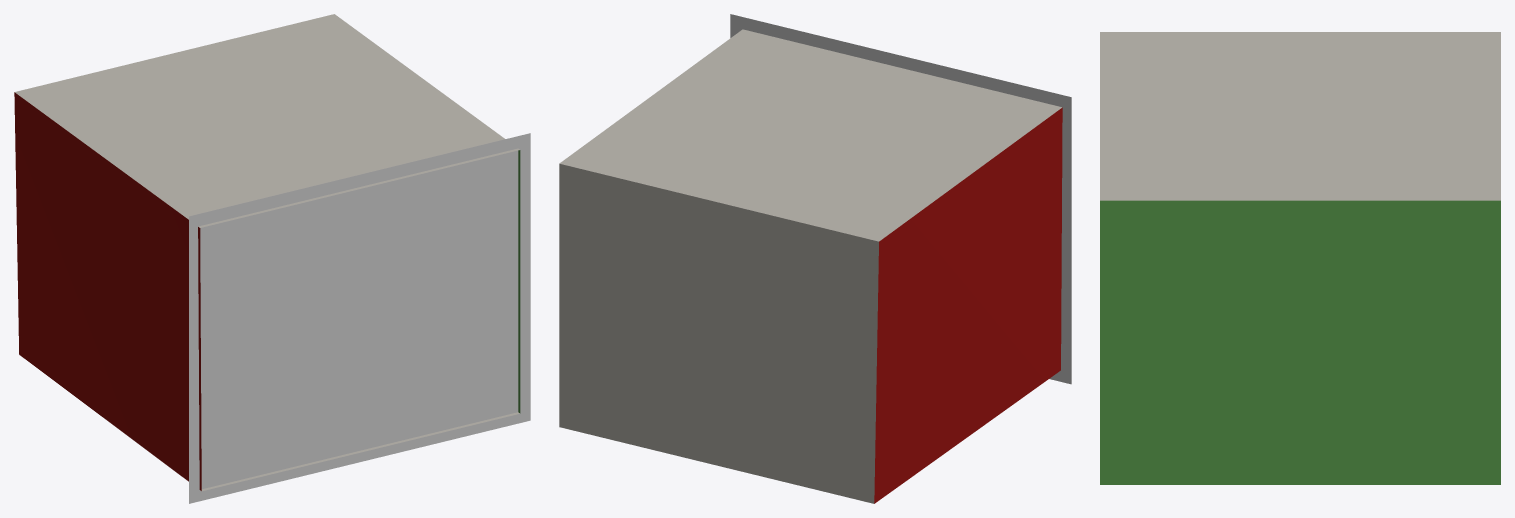
Rendered from CornellBox.obj.
3 views of the same model, side by side, from view 1: azimuth 30°, elevation 25°; view 2: azimuth 150°, elevation 25°; view 3: azimuth 270°, elevation 25° (orthographic). The views are drawn at different scales.
Visible parts, largest first — view 1: CornellBox, Plane; view 2: CornellBox, Plane; view 3: CornellBox.
Part boxes in pixels (<box>): CornellBox: <box>14,14,520,491</box>; Plane: <box>189,133,530,503</box>; CornellBox: <box>559,29,1062,503</box>; Plane: <box>730,14,1071,384</box>; CornellBox: <box>1100,32,1500,484</box>.
Bounding box in the file's own units: 6.09 × 4.9 × 5.73.
